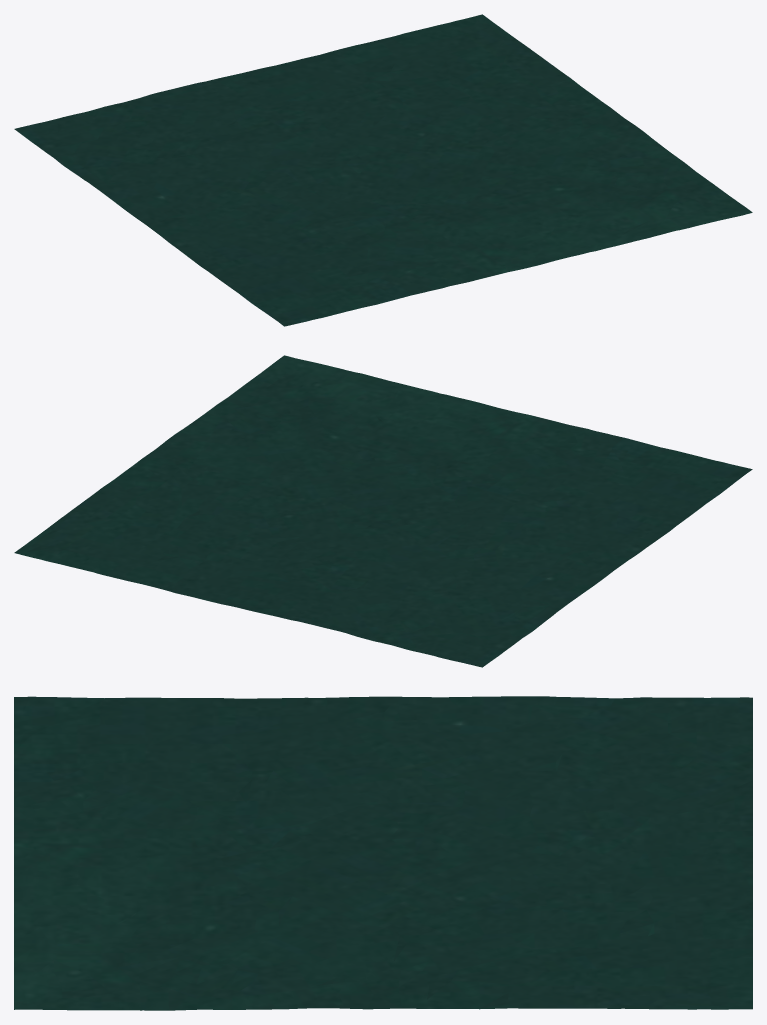
The picture shows the model from 3 angles, top to bottom: view 1: azimuth 30°, elevation 25°; view 2: azimuth 150°, elevation 25°; view 3: azimuth 270°, elevation 25°; orthographic projection. The views are drawn at different scales.
Bounding box in the file's own units: 104 × 0.5835 × 104.
Materials: 2 (2 with a texture image).
